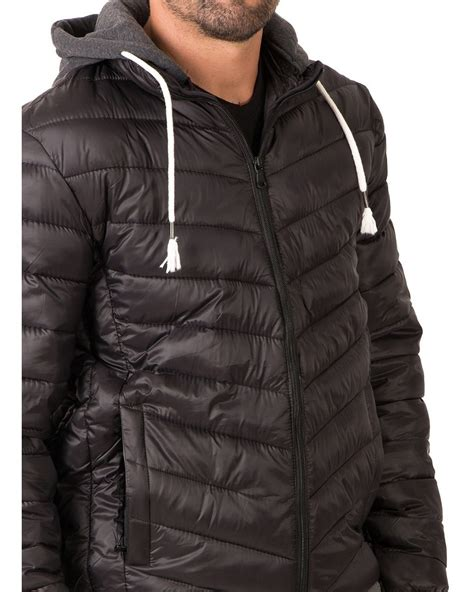nylon: (20, 56, 449, 592)
